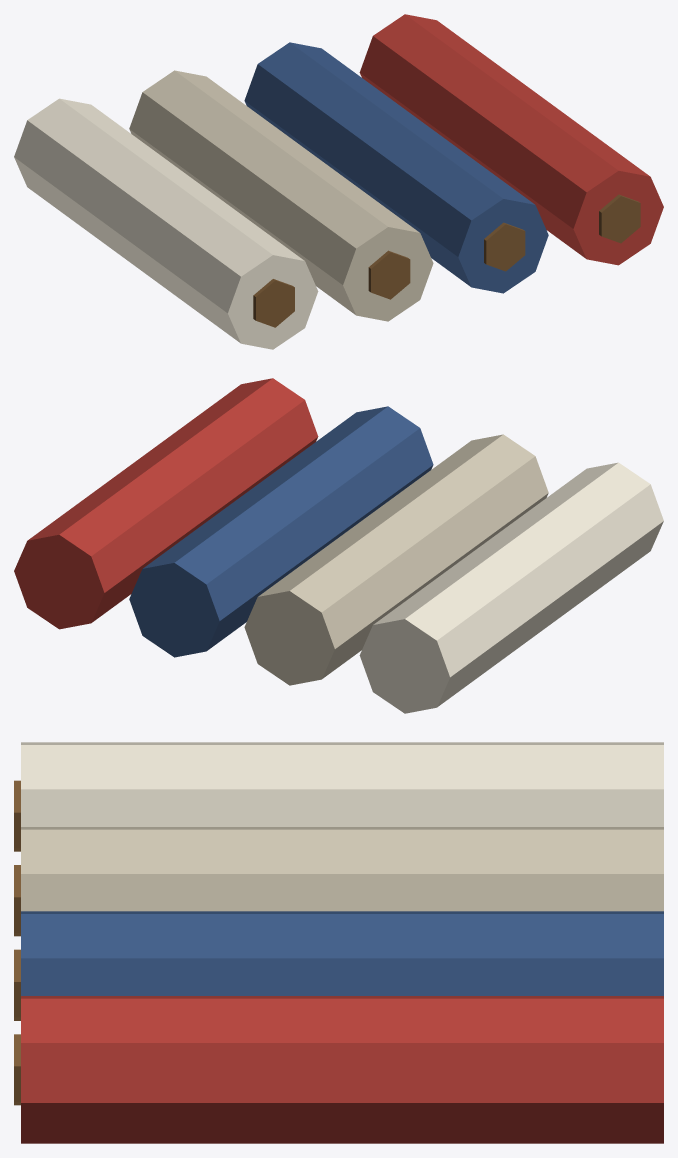
Rendered from pile_linen_1.glb.
The picture shows the model from 3 angles, top to bottom: view 1: azimuth 30°, elevation 25°; view 2: azimuth 150°, elevation 25°; view 3: azimuth 270°, elevation 25°; orthographic projection. The views are drawn at different scales.
Visible parts, largest first — view 1: pile_linen_1; view 2: pile_linen_1; view 3: pile_linen_1.
Part boxes in pixels (left/top/right/bottom): pile_linen_1: left=14, top=14, right=663, bottom=349; pile_linen_1: left=14, top=378, right=663, bottom=713; pile_linen_1: left=14, top=742, right=663, bottom=1143.
Bounding box in the file's own units: 1.06 × 0.22 × 0.91.
